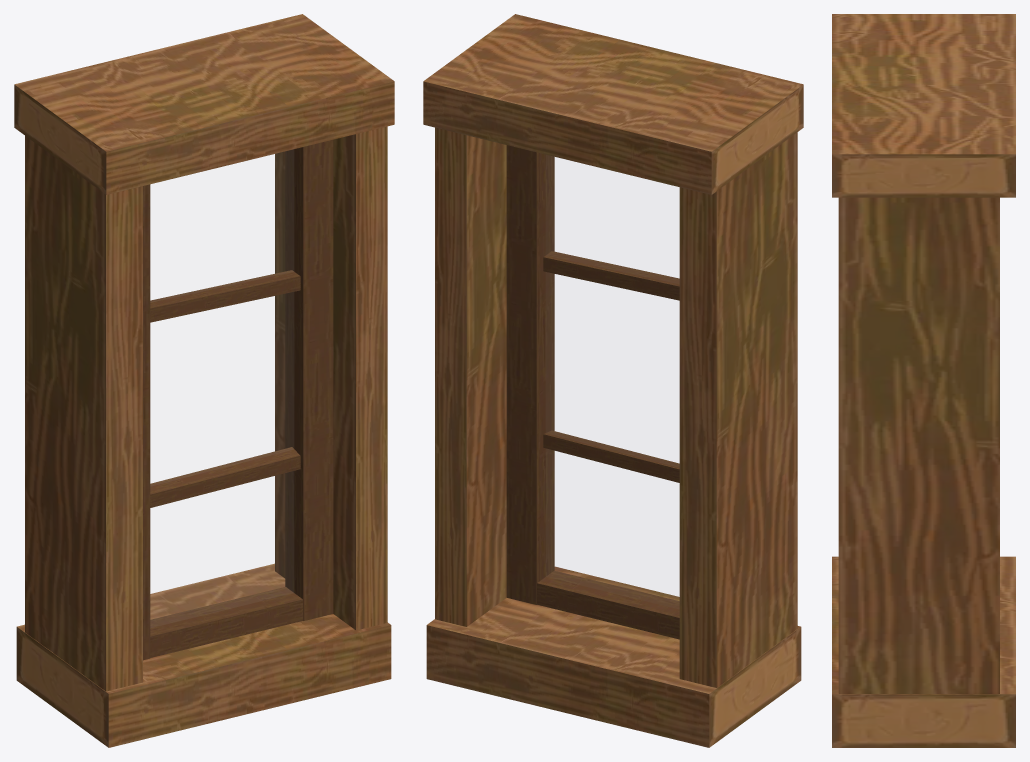
File: window_thin_flat1.glb
The picture shows the model from 3 angles, left to right: view 1: azimuth 30°, elevation 25°; view 2: azimuth 150°, elevation 25°; view 3: azimuth 270°, elevation 25°; orthographic projection.
Size of the model in its own units: 0.788 by 1.56 by 0.4357.
Materials: 2 (1 with a texture image).
